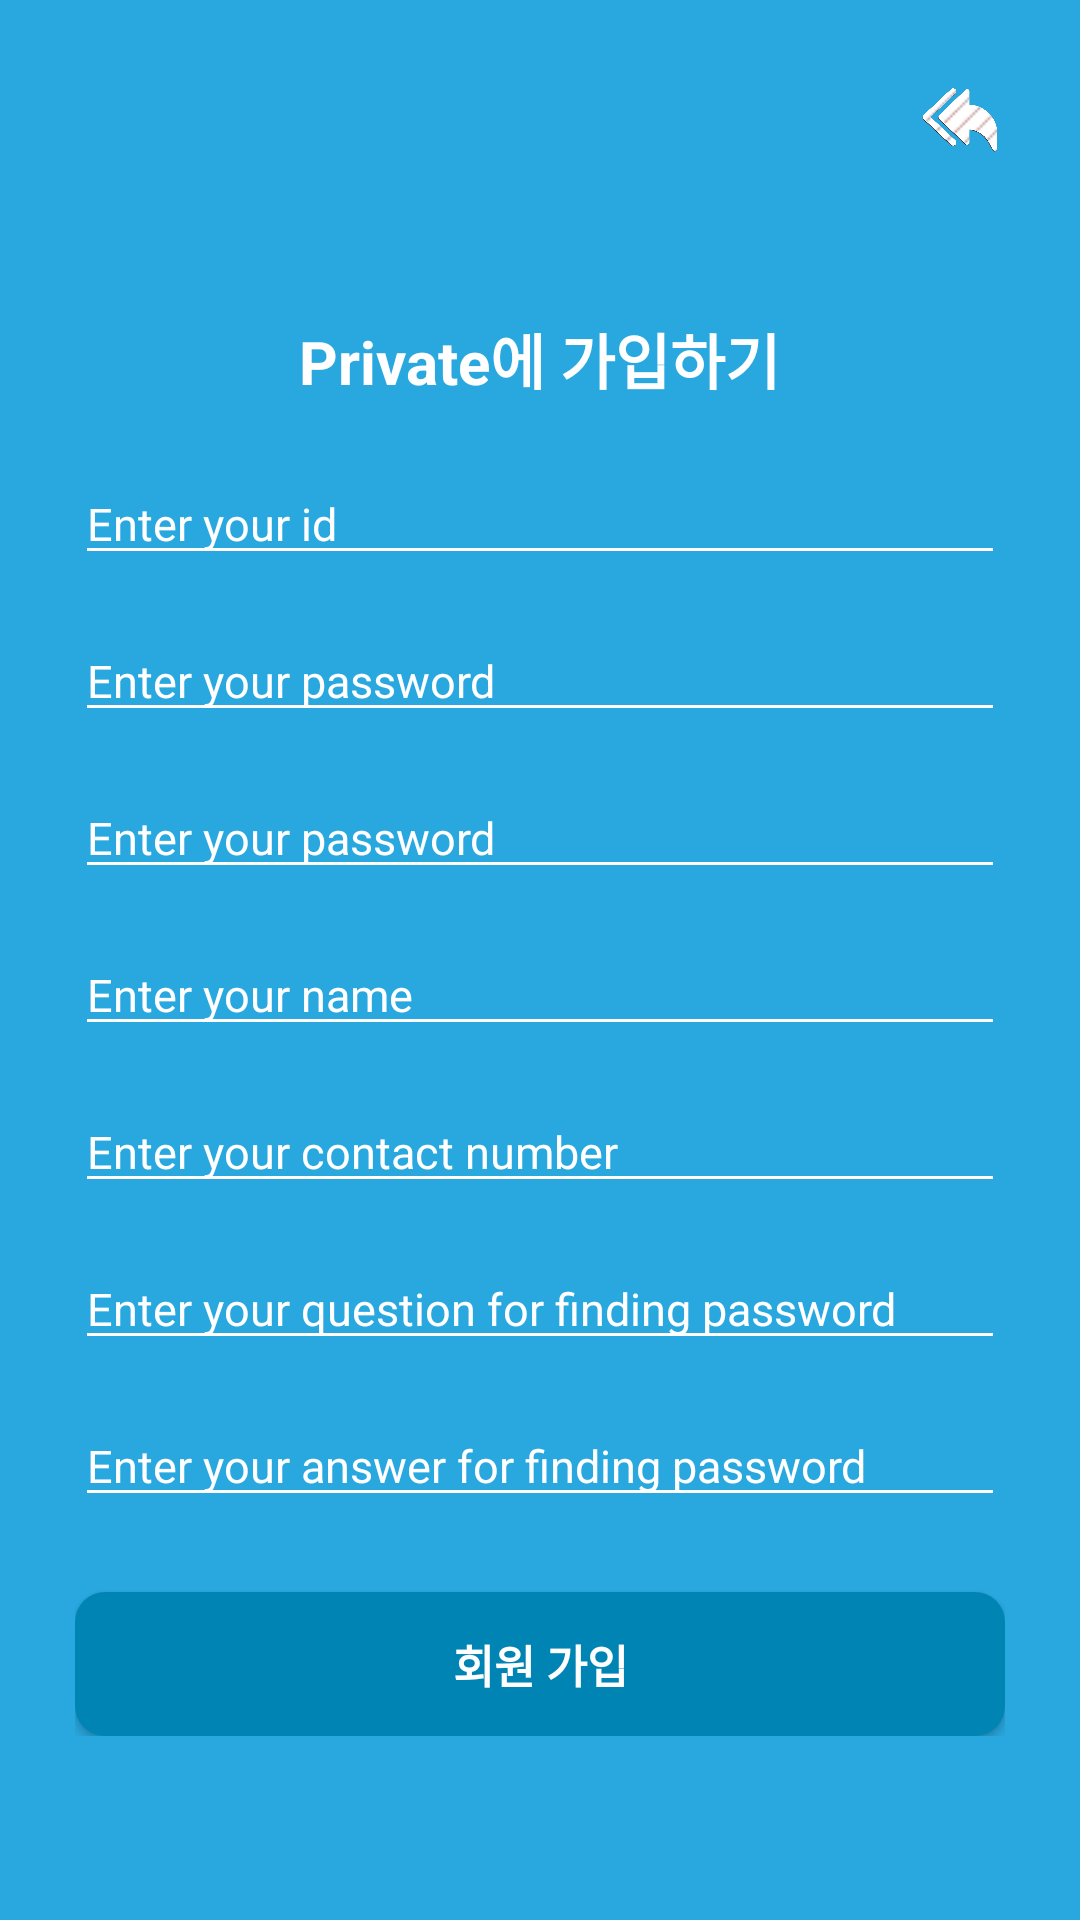

Icons on this 1080px x 1920px Android screen, each with its box as (x1, y1, x2, y2):
back: (922, 88, 997, 152)
